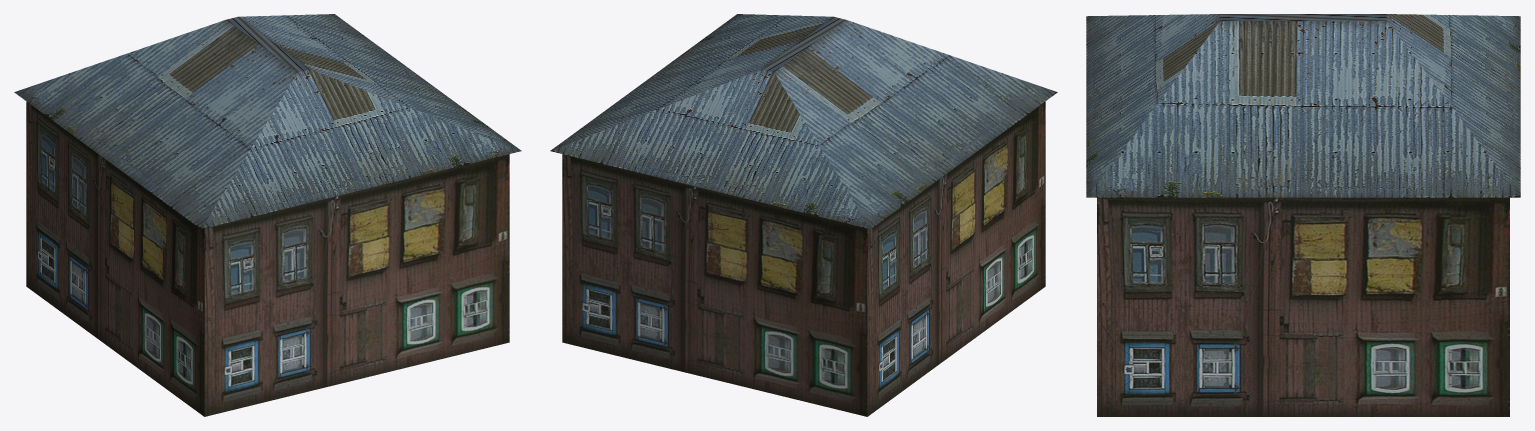
Rendered from d_dom_2et_44.FBX.
The picture shows the model from 3 angles, left to right: view 1: azimuth 30°, elevation 25°; view 2: azimuth 150°, elevation 25°; view 3: azimuth 270°, elevation 25°; orthographic projection. The views are drawn at different scales.
Parts seen in each view (by area): view 1: d_dom_2et_44; view 2: d_dom_2et_44; view 3: d_dom_2et_44.
Part boxes in pixels (<box>): d_dom_2et_44: <box>14,14,521,416</box>; d_dom_2et_44: <box>550,14,1057,416</box>; d_dom_2et_44: <box>1086,14,1520,416</box>.
Bounding box in the file's own units: 10.65 × 10.77 × 8.57.
